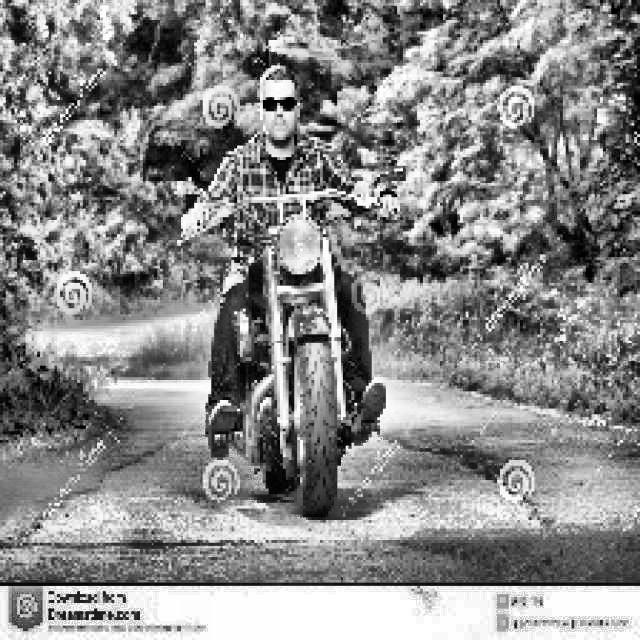motorcycle: (168, 159, 416, 522)
